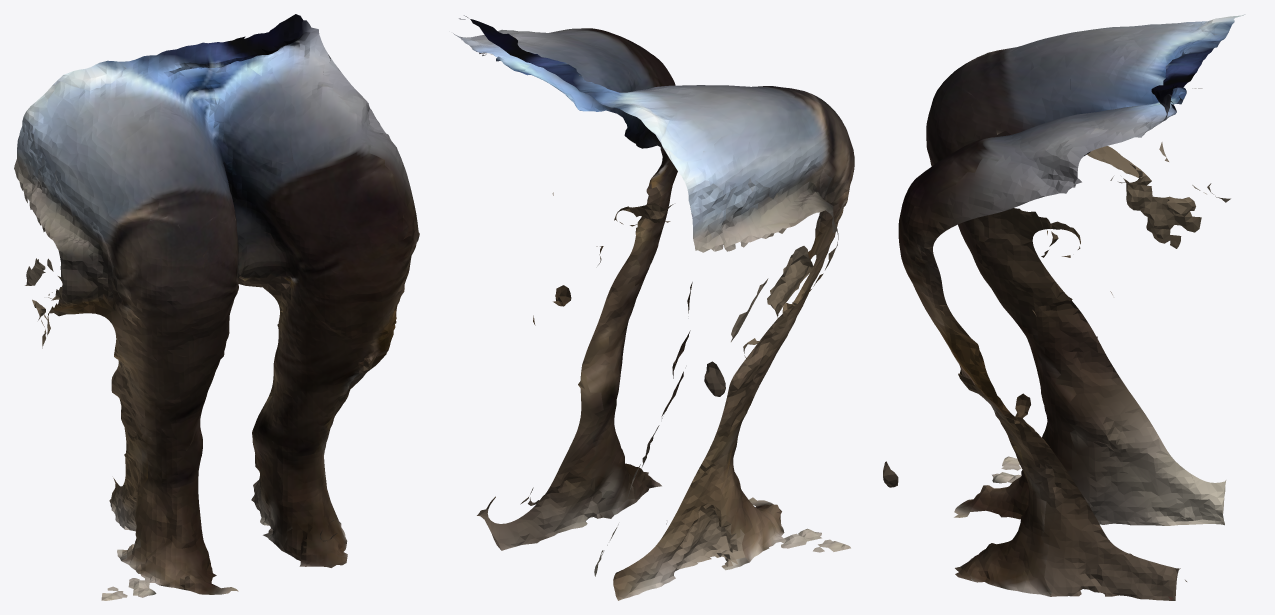
The picture shows the model from 3 angles, left to right: view 1: azimuth 30°, elevation 25°; view 2: azimuth 150°, elevation 25°; view 3: azimuth 270°, elevation 25°; orthographic projection. The views are drawn at different scales.
Size of the model in its own units: 0.4545 by 0.6385 by 0.4214.
1 material, 1 textured.
